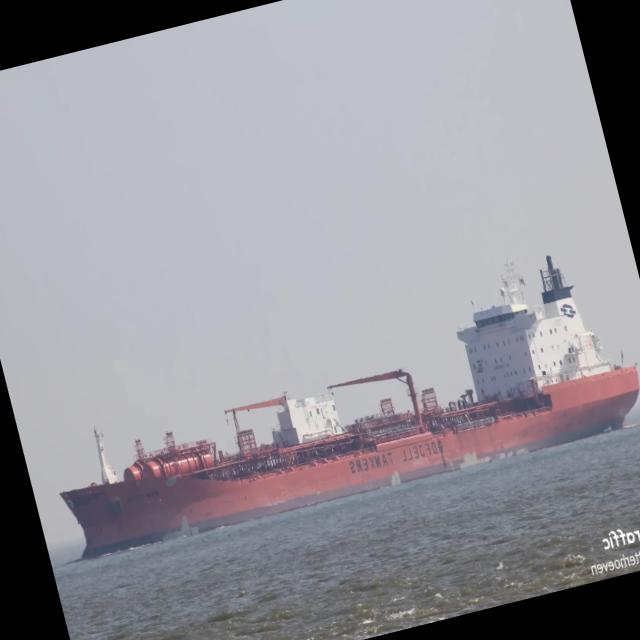Tanker: (60, 256, 639, 557)
